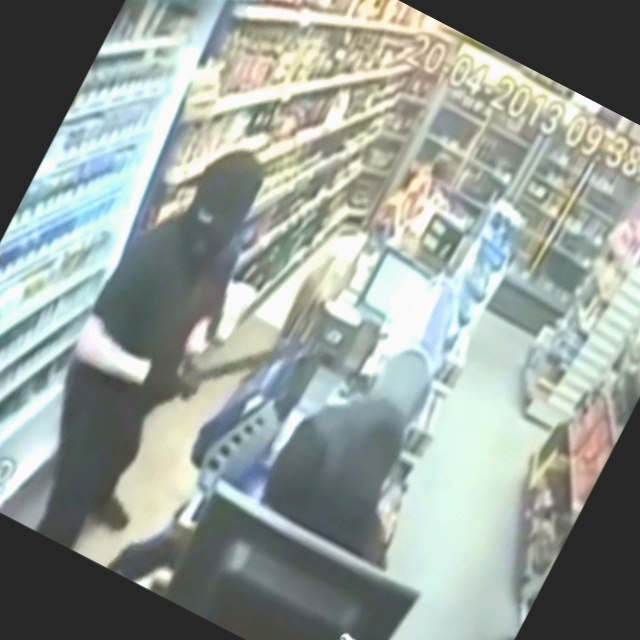gun: (159, 284, 332, 449)
